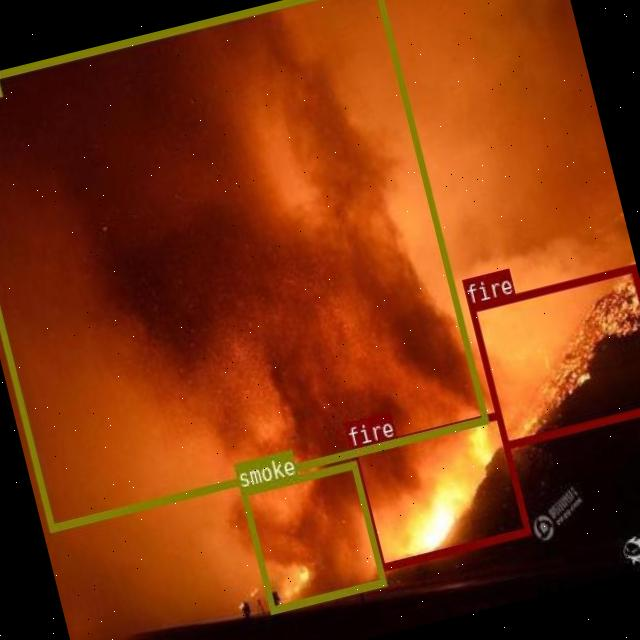fire: (467, 262, 640, 446), (350, 410, 531, 571)
smoke: (0, 0, 486, 531), (239, 458, 386, 612)
